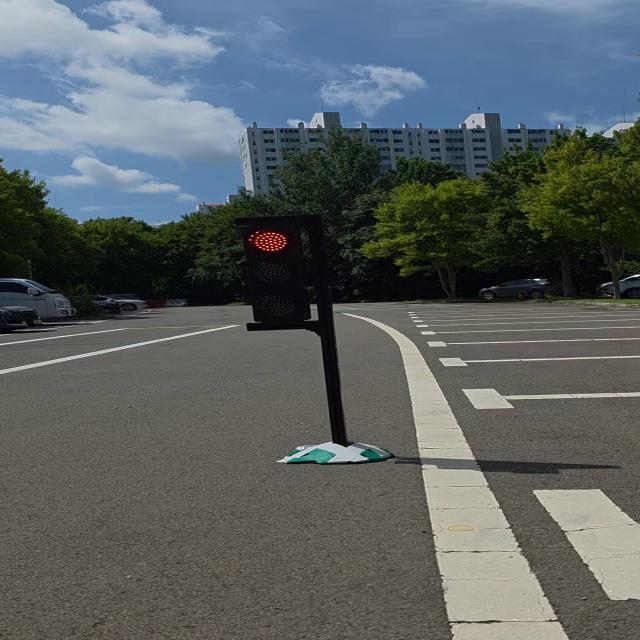red: (230, 217, 324, 332)
